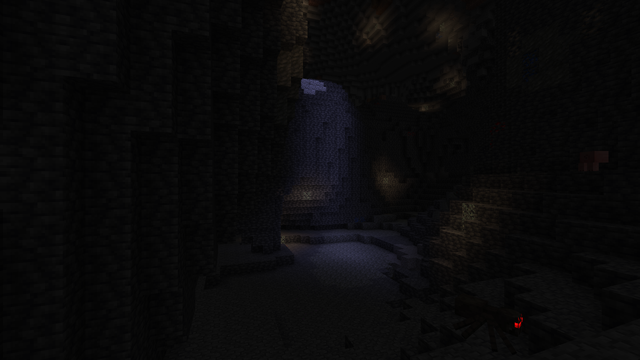araignees: (454, 290, 532, 352)
cochons: (578, 149, 611, 166)
